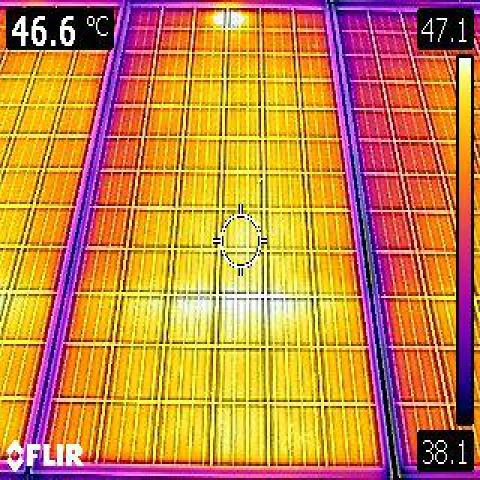fault: (182, 286, 305, 330), (216, 10, 239, 28)
